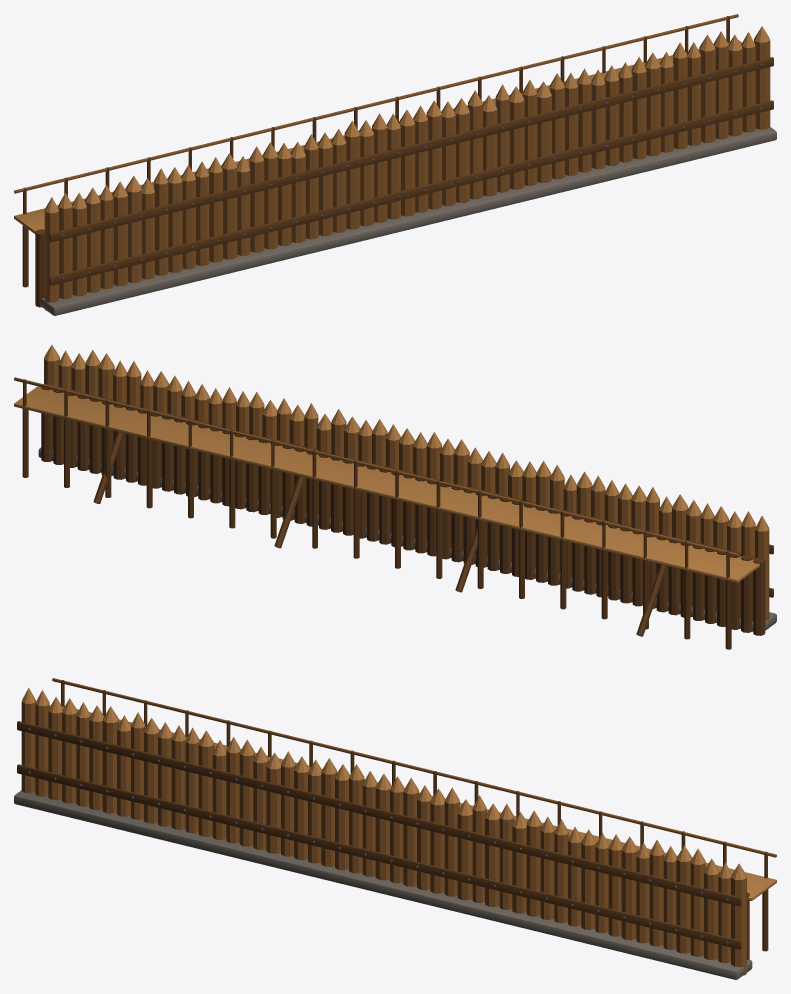
Rendered from mur_bok_2.glb.
The picture shows the model from 3 angles, top to bottom: view 1: azimuth 30°, elevation 25°; view 2: azimuth 150°, elevation 25°; view 3: azimuth 330°, elevation 25°; orthographic projection.
Parts seen in each view (by area): view 1: mur_bok_2; view 2: mur_bok_2; view 3: mur_bok_2.
Part boxes in pixels (x1=…): mur_bok_2: x1=14, y1=14, x2=776, y2=315; mur_bok_2: x1=14, y1=345, x2=776, y2=649; mur_bok_2: x1=14, y1=678, x2=776, y2=979.
Bounding box in the file's own units: 28.11 × 4.36 × 3.29.
